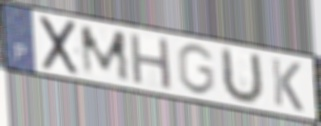G: (175, 43, 217, 97)
H: (127, 31, 174, 92)
K: (269, 56, 306, 115)
M: (77, 24, 133, 83)
U: (220, 45, 266, 106)
X: (39, 14, 81, 78)
